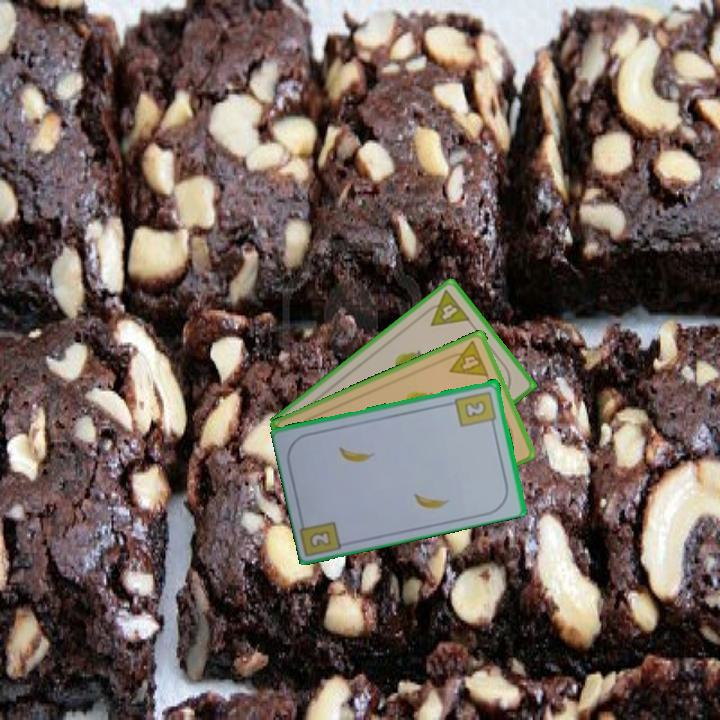2b: (452, 387, 499, 430), (306, 527, 334, 552)
4p: (419, 286, 473, 329), (442, 337, 491, 380)
